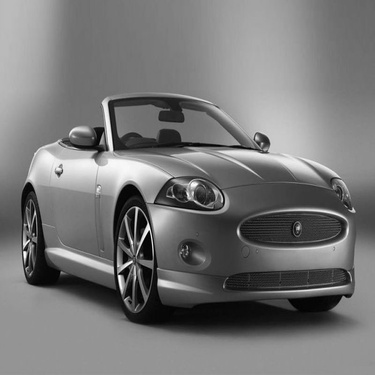car: (6, 89, 368, 313)
